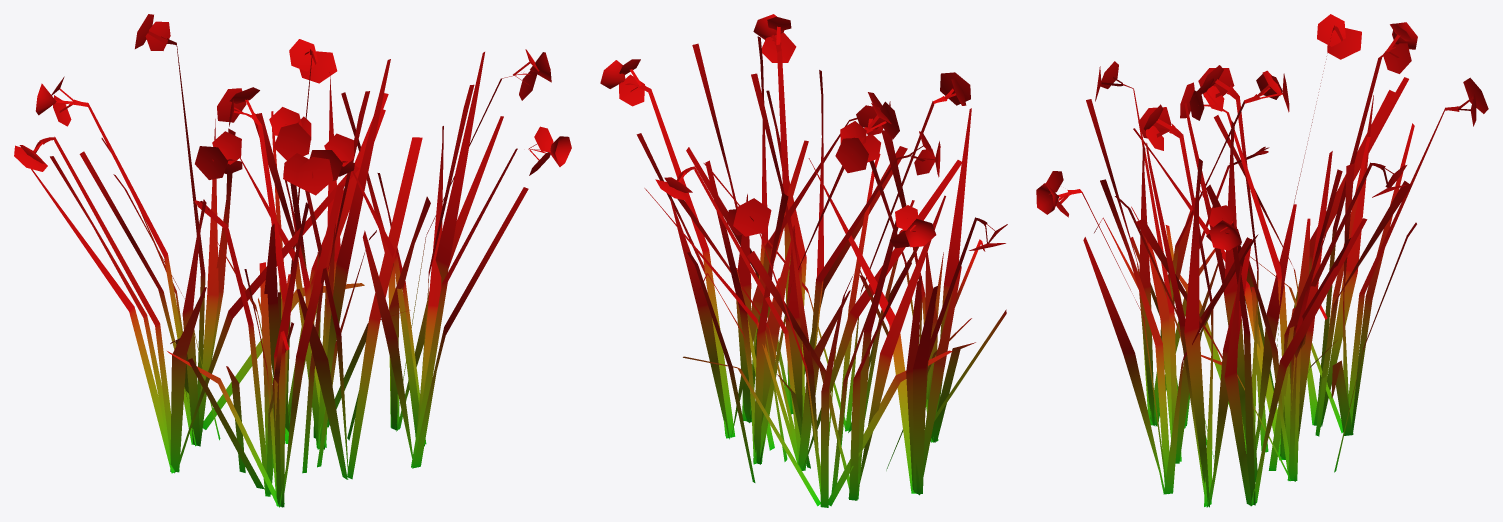
Rendered from Rush Daffodil_LOD6_Var1_wftgfjaia.fbx.
3 views of the same model, side by side, from view 1: azimuth 30°, elevation 25°; view 2: azimuth 150°, elevation 25°; view 3: azimuth 270°, elevation 25° (orthographic). The views are drawn at different scales.
Parts seen in each view (by area): view 1: _90ha_var1_LOD6; view 2: _90ha_var1_LOD6; view 3: _90ha_var1_LOD6.
Part boxes in pixels (x1,y1,x2,y2): _90ha_var1_LOD6: (14, 14, 571, 507); _90ha_var1_LOD6: (600, 14, 1007, 507); _90ha_var1_LOD6: (1036, 14, 1488, 507).
Size of the model in its own units: 46.25 by 35.53 by 38.57.
